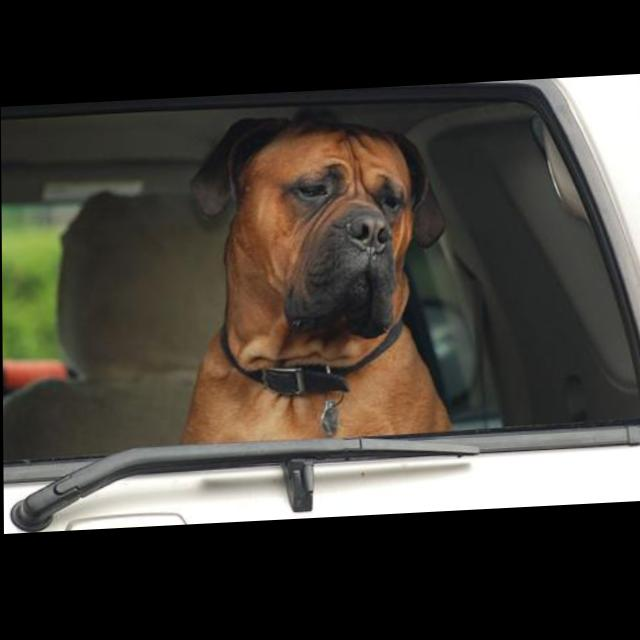bullmastiff: (177, 110, 454, 449)
